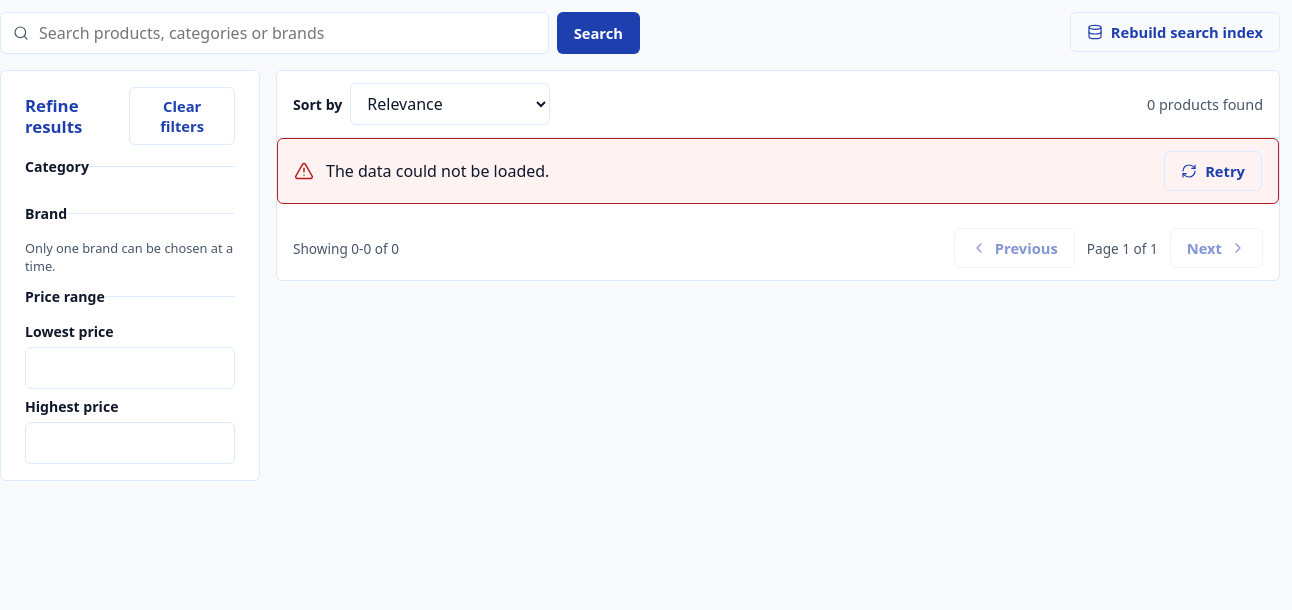
a failed search offers a retry that asks the service again
Click the button "Retry": (1213, 171) [1164,151,1262,191]
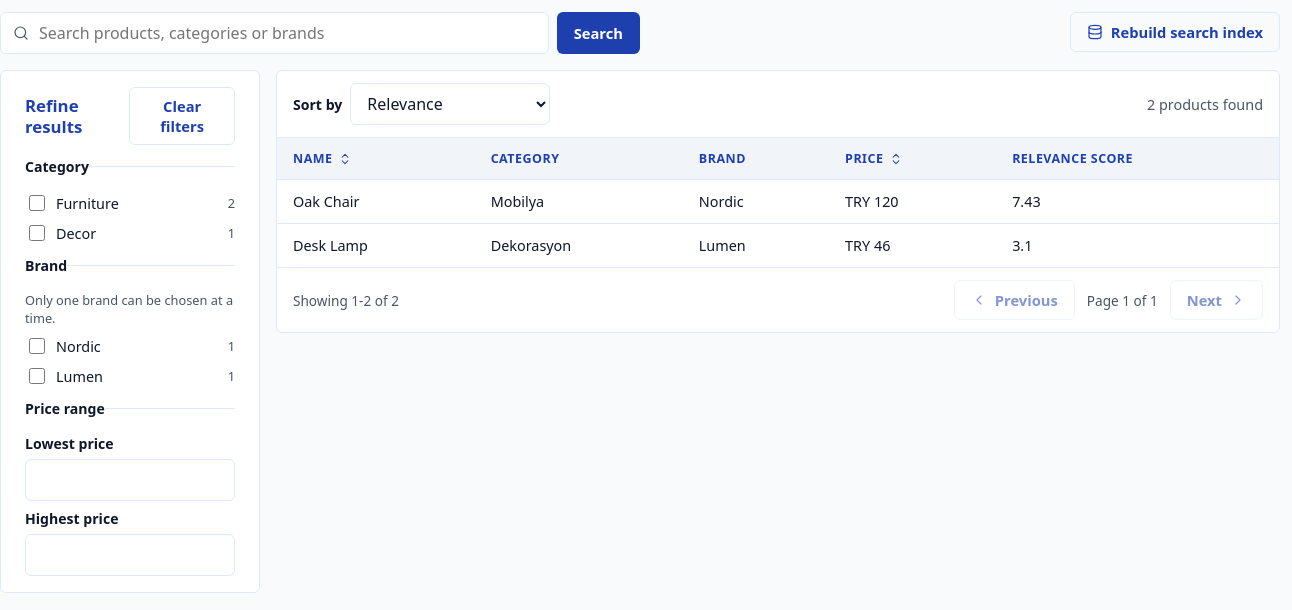
expect the text "Oak Chair" is shown: met, box [277,180,475,224]
